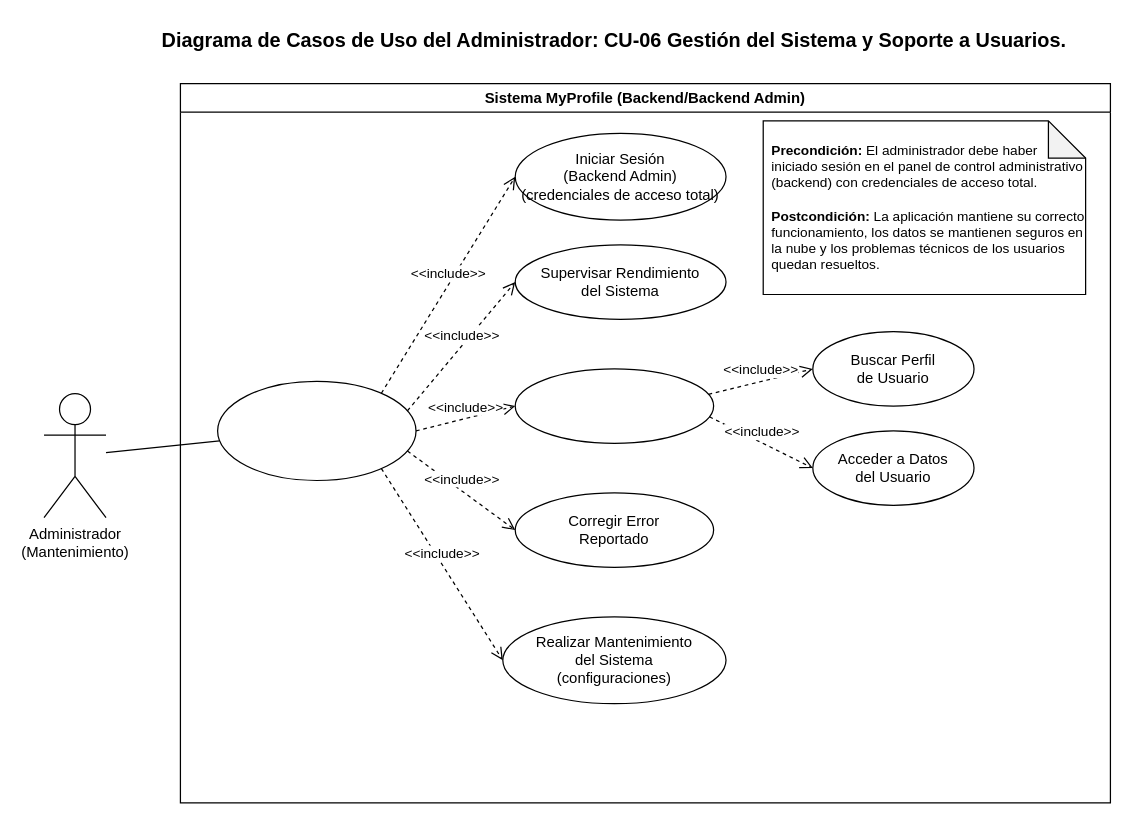
Image size: 1132x825. Some labels were removed from this diagram. The centre of each missing label's shape, as x and y in pixels:
Gestionar Cuentas de Usuario: [614,405]
Gestión del Sistema y Soporte a Usuarios: [316,430]
